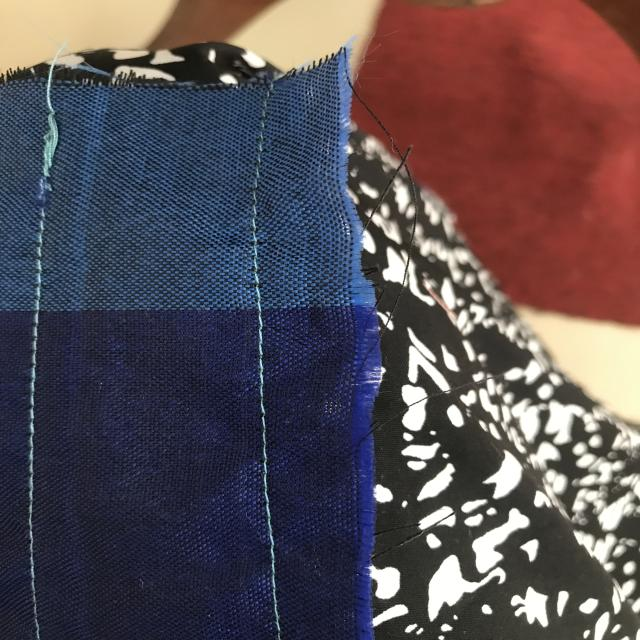good: (250, 426, 295, 612), (242, 274, 276, 409), (24, 271, 56, 402), (21, 431, 49, 571)
